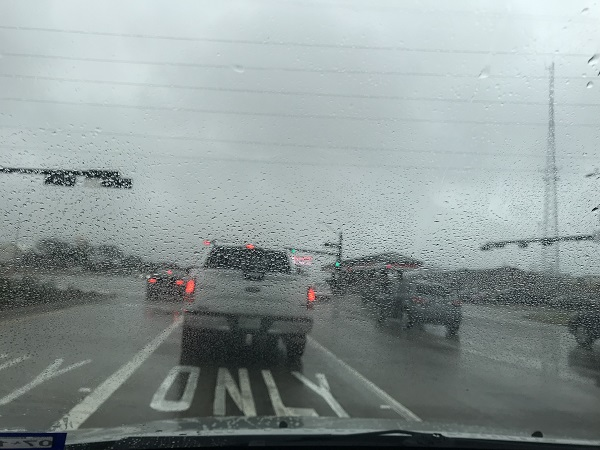car: (373, 282, 462, 334), (145, 265, 185, 297)
truck: (184, 242, 311, 357)
